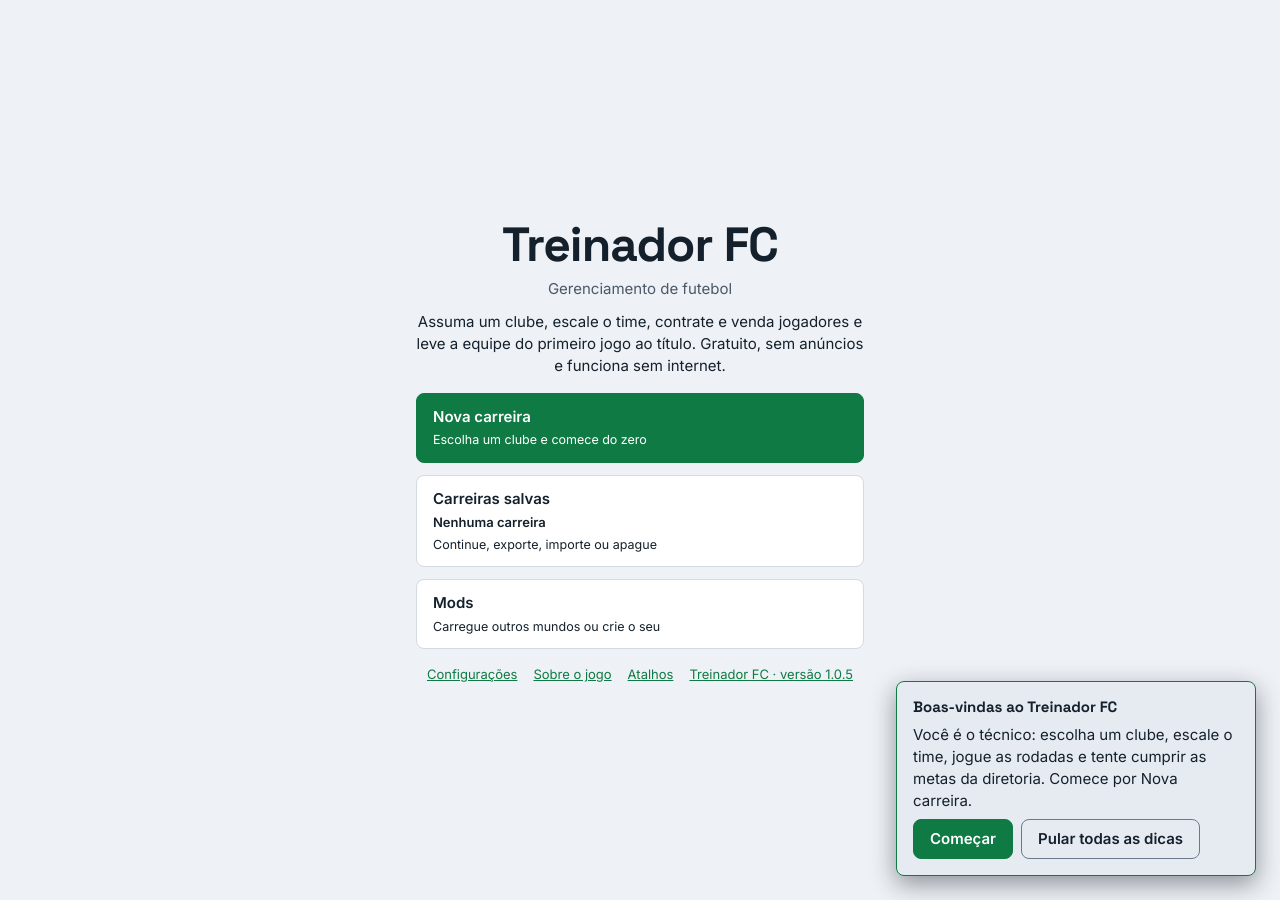
it: ajuda de atalhos (031 US7) › a ajuda lista os atalhos gerais como teclas com a descrição de cada um
Click the button "Atalhos" at [650, 674], box [628, 665, 673, 684]
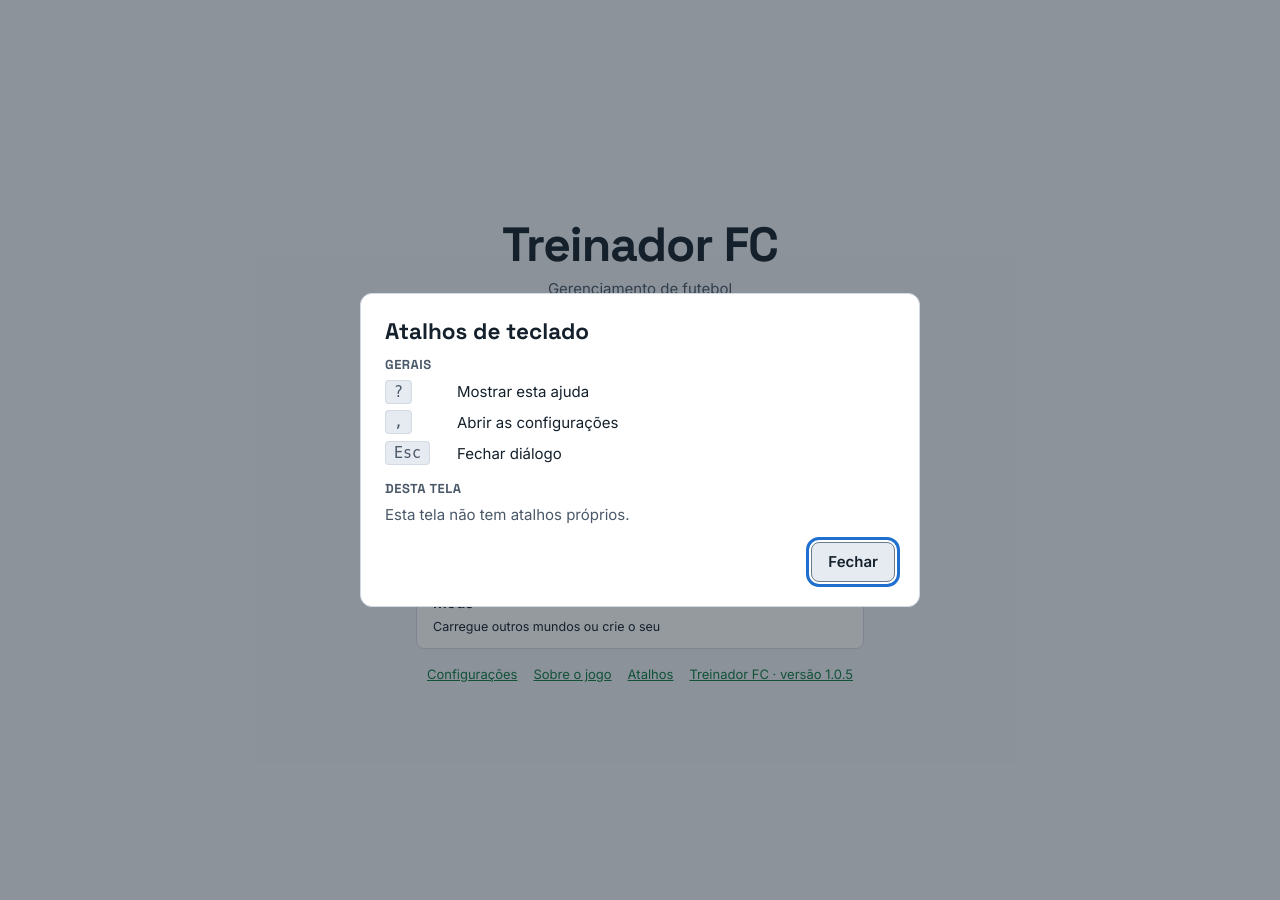
Now the element showing "?" is shown, box [385, 380, 412, 404]
